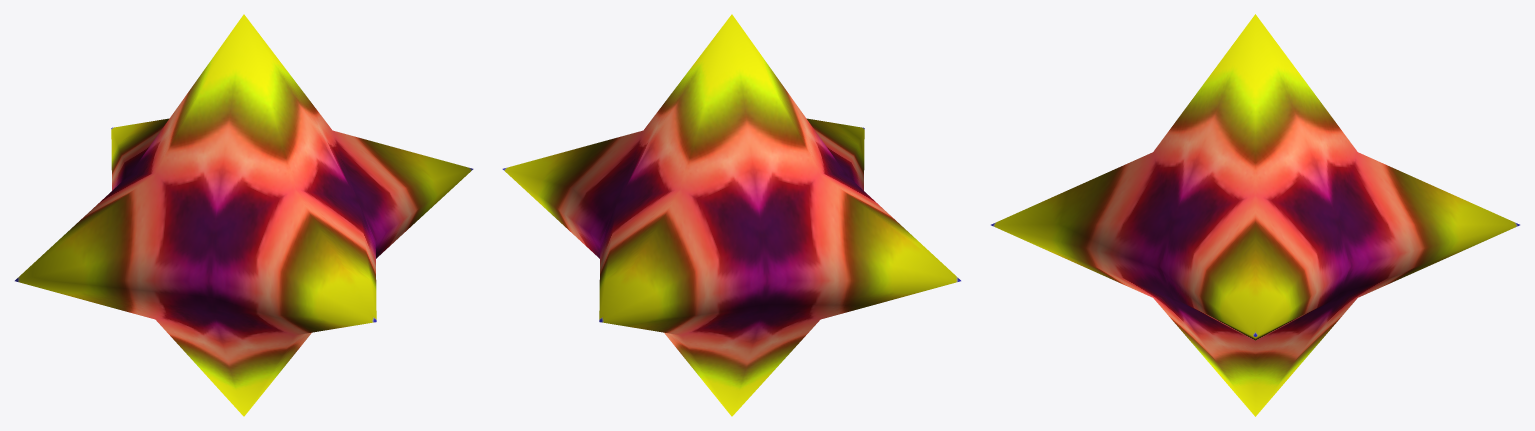
The model's file is misc-04.fbx.
3 views of the same model, side by side, from view 1: azimuth 30°, elevation 25°; view 2: azimuth 150°, elevation 25°; view 3: azimuth 270°, elevation 25° (orthographic).
Visible parts, largest first — view 1: misc-04; view 2: misc-04; view 3: misc-04.
Part boxes in pixels (box(x1,y1,x2,y2)): misc-04: box(15, 14, 473, 416); misc-04: box(502, 14, 960, 416); misc-04: box(991, 14, 1519, 416).
Size of the model in its own units: 37.24 by 31.22 by 37.24.
